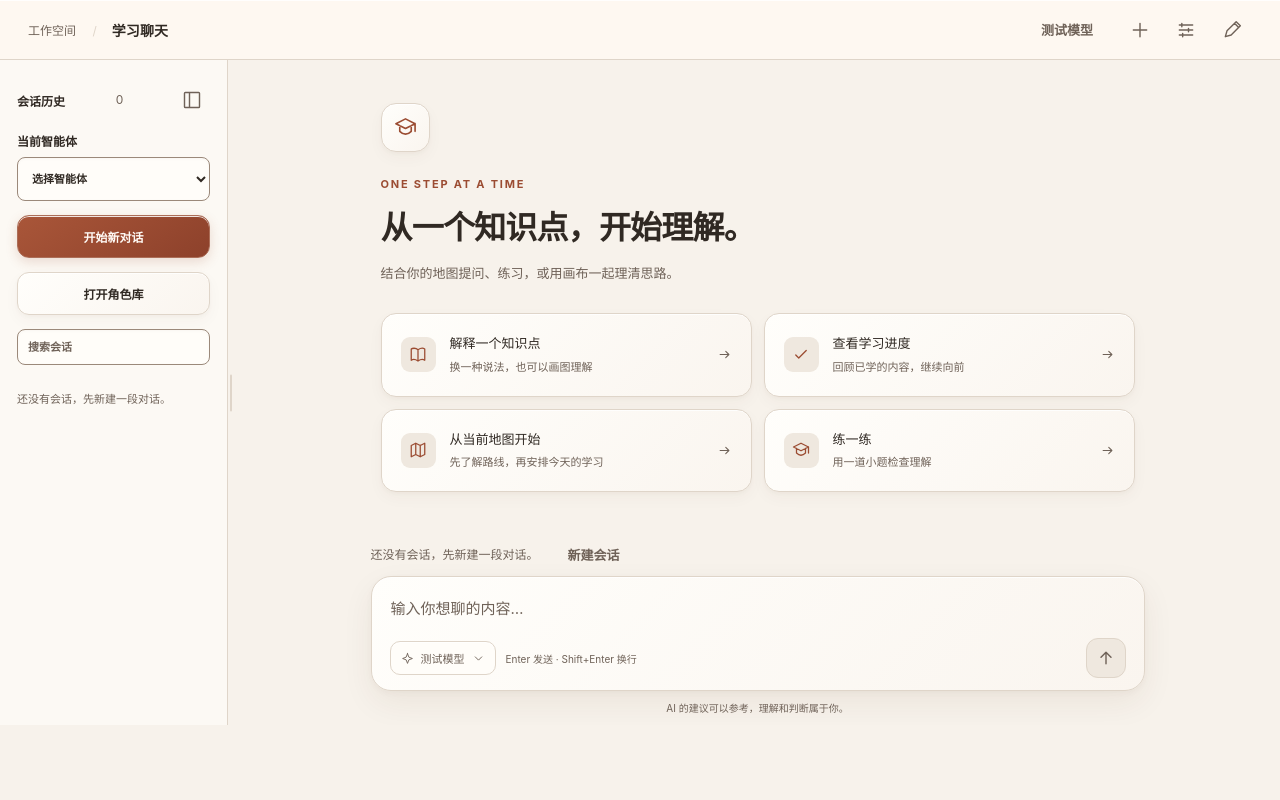
lists the complete library and opens the first selected role after history was cleared
Select "阅读伙伴" in the dropdown: (114, 179) x1=17 y1=157 x2=210 y2=201
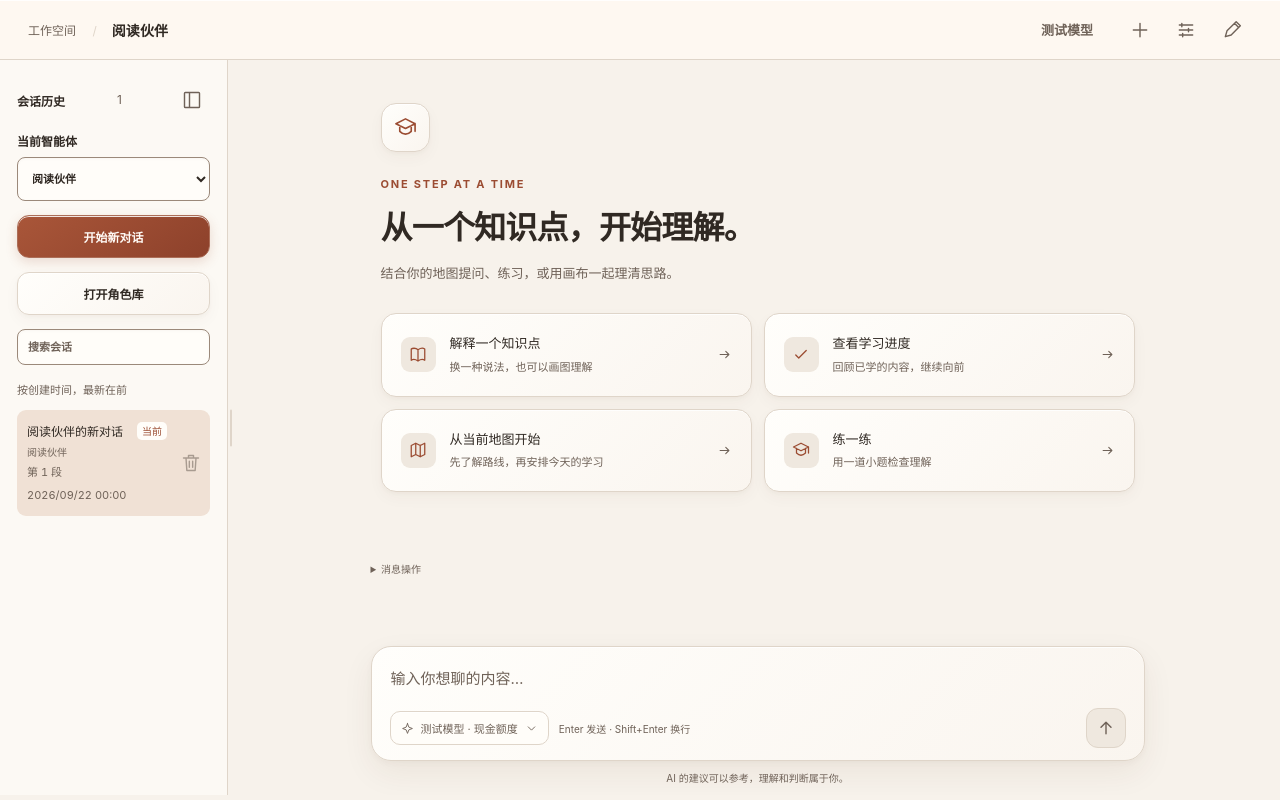
Expected: the heading "阅读伙伴" is shown, x1=112 y1=20 x2=168 y2=40
